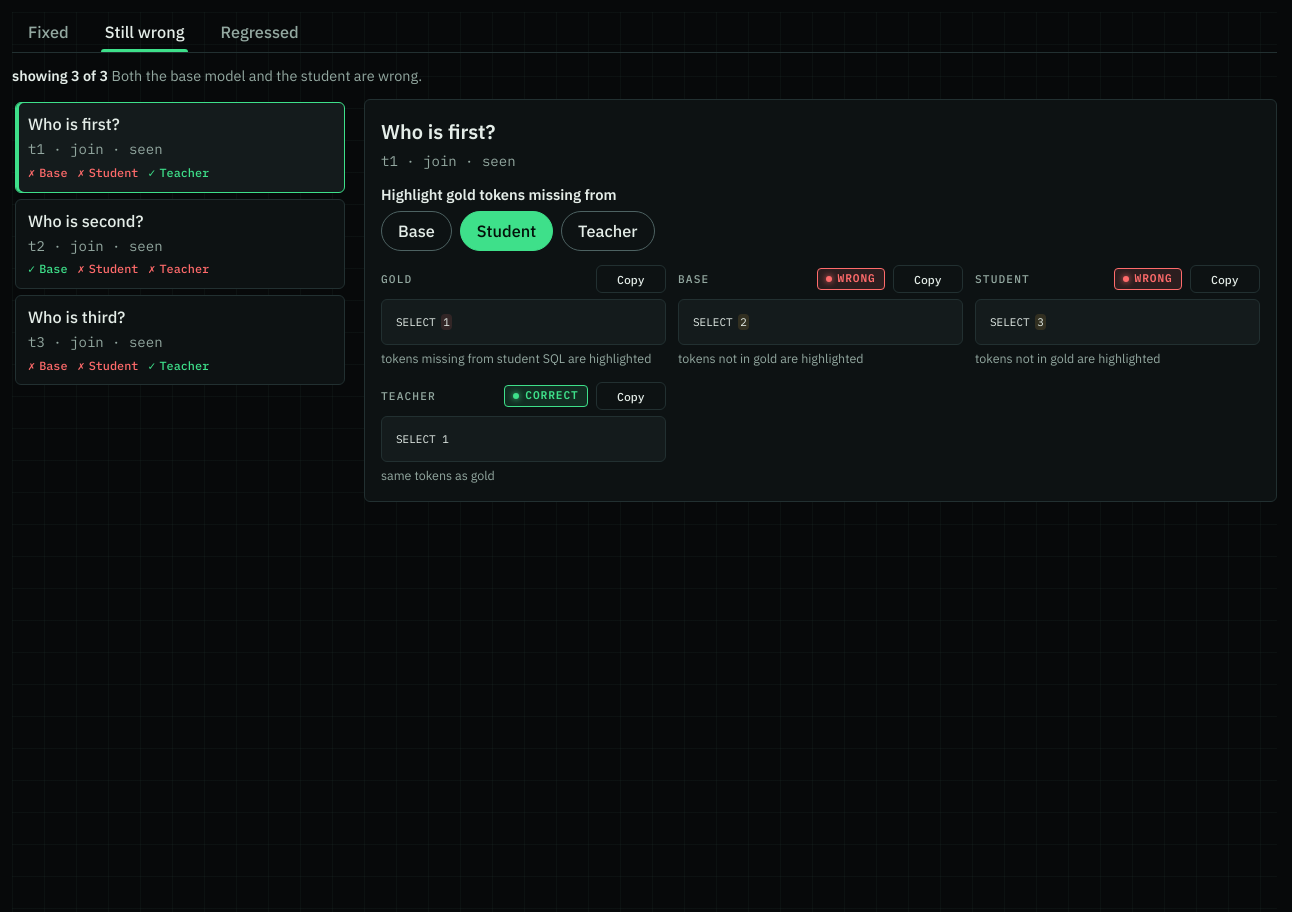
Test: examples layout follows the window without changing what is shown › wide: the rows are a bounded list of their own and the open example is beside it, outside the list
Expected: the list with class "exb-list" is shown, [12, 99, 348, 388]
Expected: the element with class "exd" shows "Who is first?", [381, 118, 495, 145]
Click the button "Who is third? t3 · join · seen ✗ Base ✗ Student ✓ Teacher" at (77, 316), box [15, 295, 345, 385]
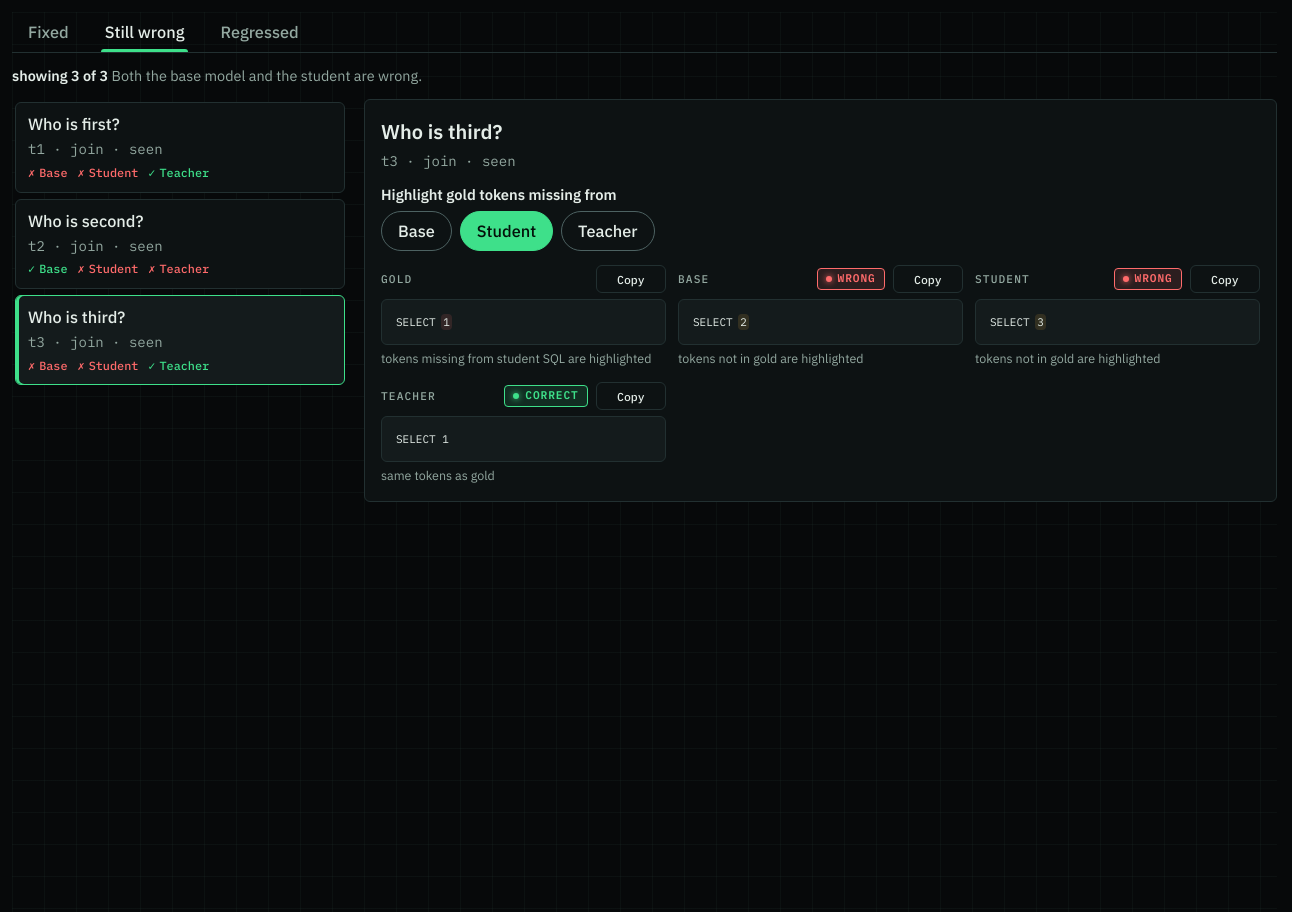
Expected: the number of elements with class "exd" is 1, [364, 99, 1277, 502]
Expected: the element with class "exd" shows "Who is third?", [381, 118, 502, 145]
Click the button "Who is third? t3 · join · seen ✗ Base ✗ Student ✓ Teacher" at (77, 316), box [15, 295, 345, 385]
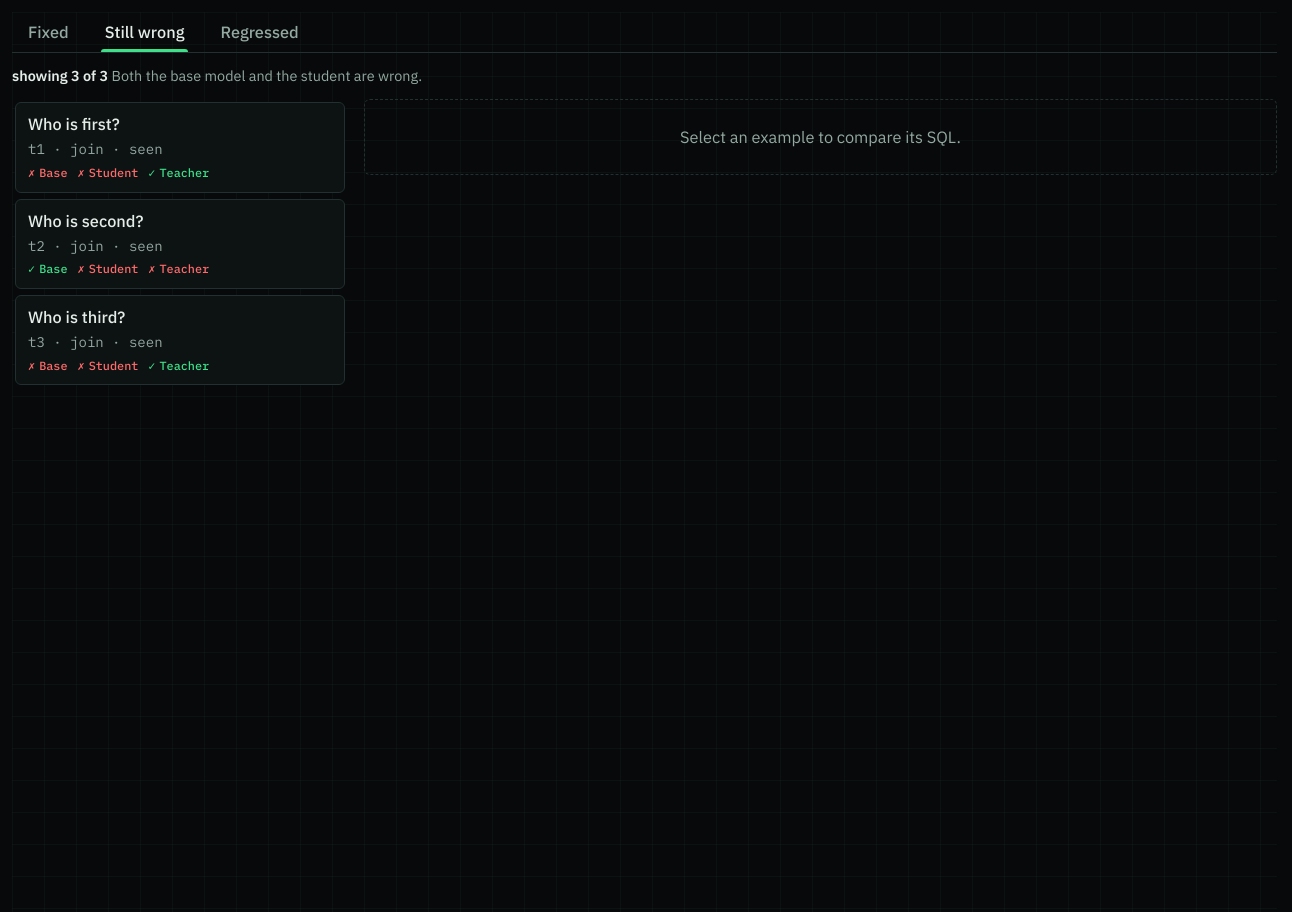
Expected: no elements with class "exd" are shown
Expected: the text "Select an example to compare its SQL." is shown, [364, 99, 1277, 175]
